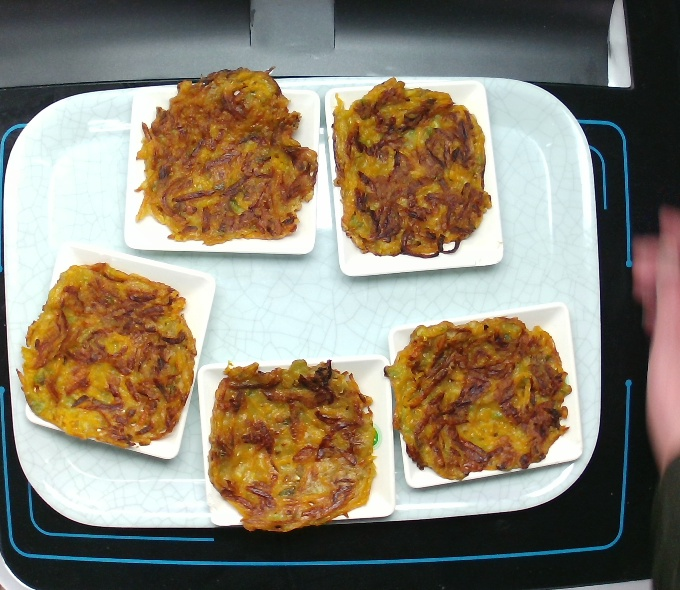wcq-NanGuaBing: (20, 258, 197, 455), (136, 67, 316, 249), (329, 84, 498, 260), (204, 360, 371, 533), (393, 315, 568, 479)
